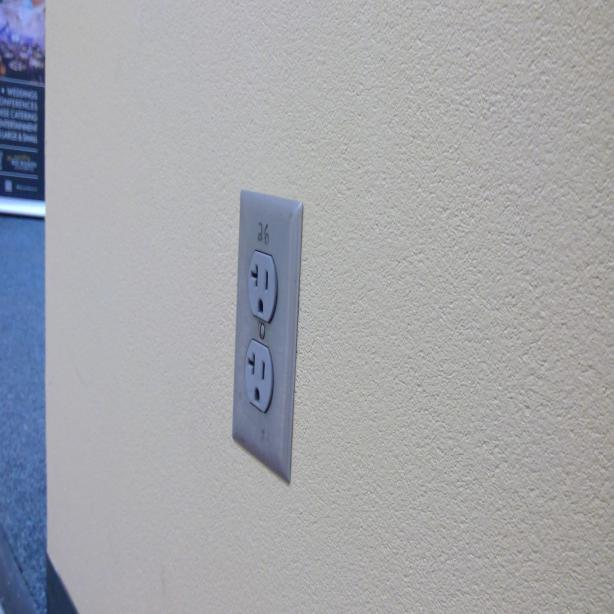typeb: (245, 254, 279, 323), (243, 340, 273, 408)
